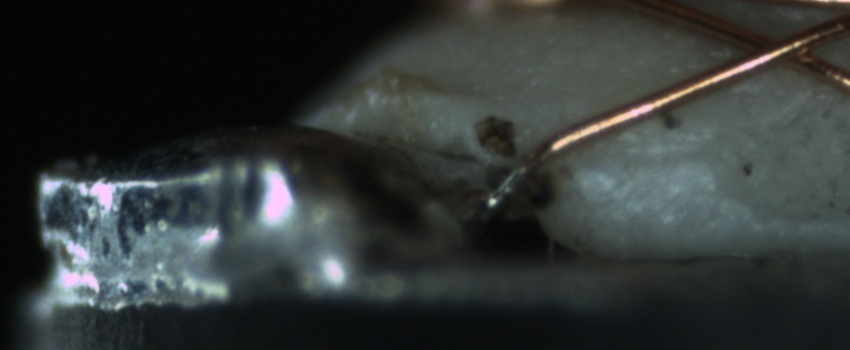CL: (716, 19, 843, 78)
DL: (568, 119, 724, 183)
TS: (479, 159, 532, 212)
